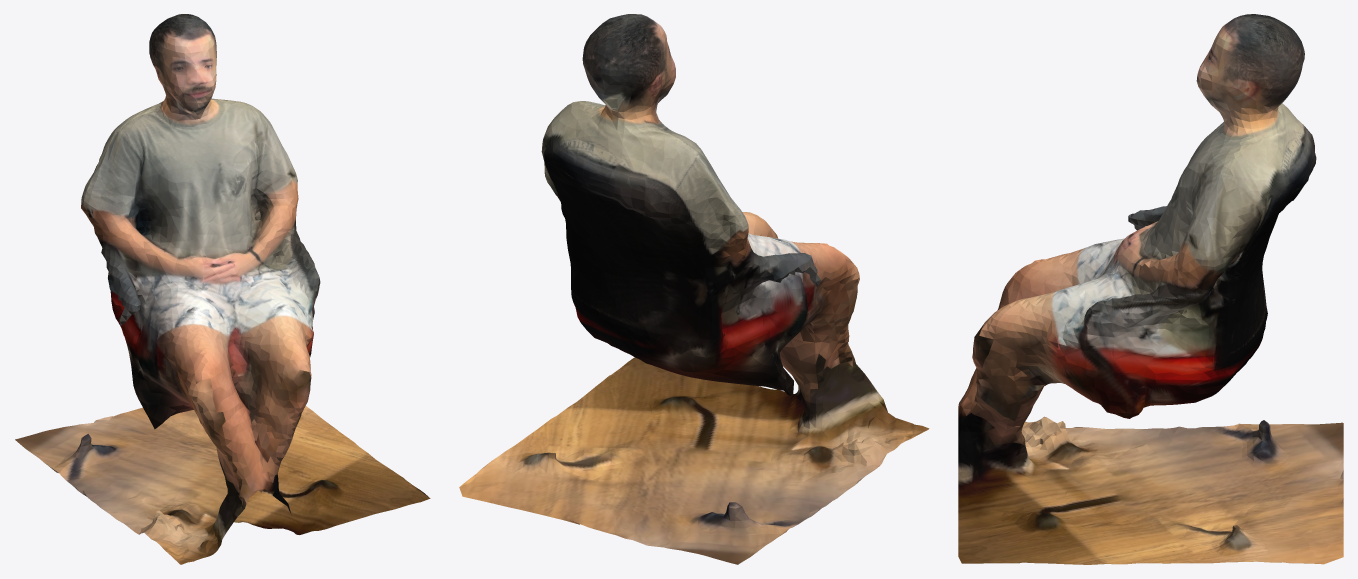
3 views of the same model, side by side, from view 1: azimuth 30°, elevation 25°; view 2: azimuth 150°, elevation 25°; view 3: azimuth 270°, elevation 25° (orthographic). The views are drawn at different scales.
Bounding box in the file's own units: 0.7926 × 1.27 × 0.9114.
Materials: 1 (1 with a texture image).
